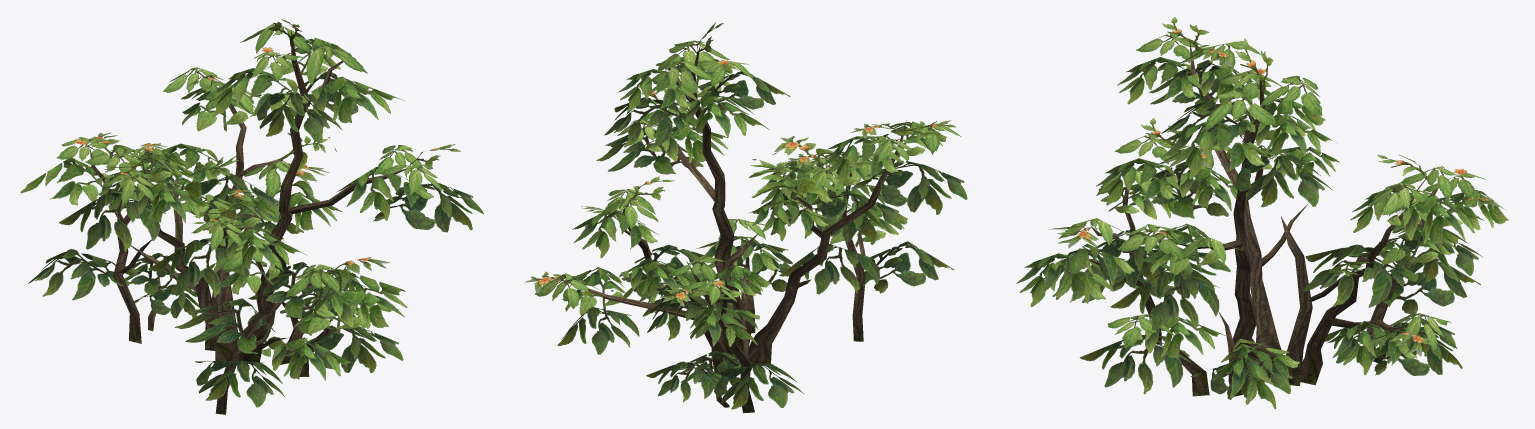
File: jd_cao_1.FBX
3 renders of one model, left to right at view 1: azimuth 30°, elevation 25°; view 2: azimuth 150°, elevation 25°; view 3: azimuth 270°, elevation 25°, orthographic. The views are drawn at different scales.
Parts seen in each view (by area): view 1: jd_cao_1; view 2: jd_cao_1; view 3: jd_cao_1.
Part boxes in pixels (<box>): jd_cao_1: <box>20,19,483,414</box>; jd_cao_1: <box>524,22,967,413</box>; jd_cao_1: <box>1016,17,1508,408</box>.
Bounding box in the file's own units: 163 × 134 × 171.
